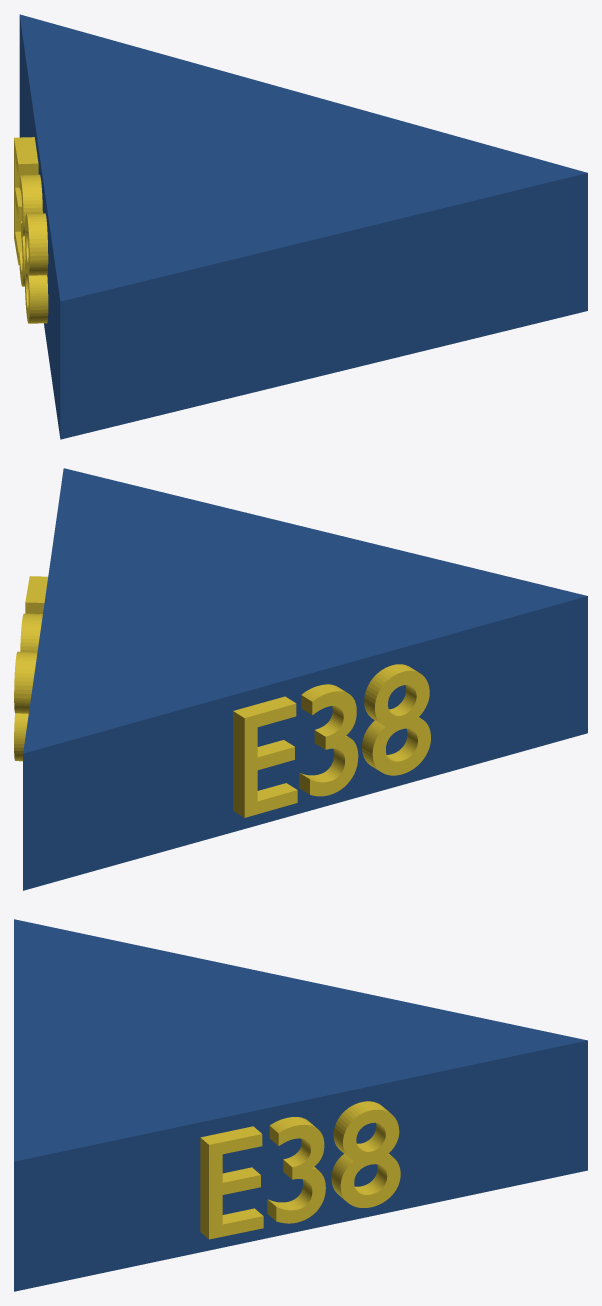
3 renders of one model, top to bottom at view 1: azimuth 30°, elevation 25°; view 2: azimuth 150°, elevation 25°; view 3: azimuth 270°, elevation 25°, orthographic. The views are drawn at different scales.
Visible parts, largest first — view 1: Cube, Text.001; view 2: Cube, Text.001, Text; view 3: Cube, Text.
Boxes of the visible parts, <box> form: Cube: <box>19,14,587,439</box>; Text.001: <box>14,137,48,323</box>; Cube: <box>23,468,587,890</box>; Text.001: <box>233,664,430,817</box>; Text: <box>14,576,47,761</box>; Cube: <box>14,919,587,1291</box>; Text: <box>200,1101,400,1239</box>.
Bounding box in the file's own units: 63.36 × 15.84 × 63.36.
